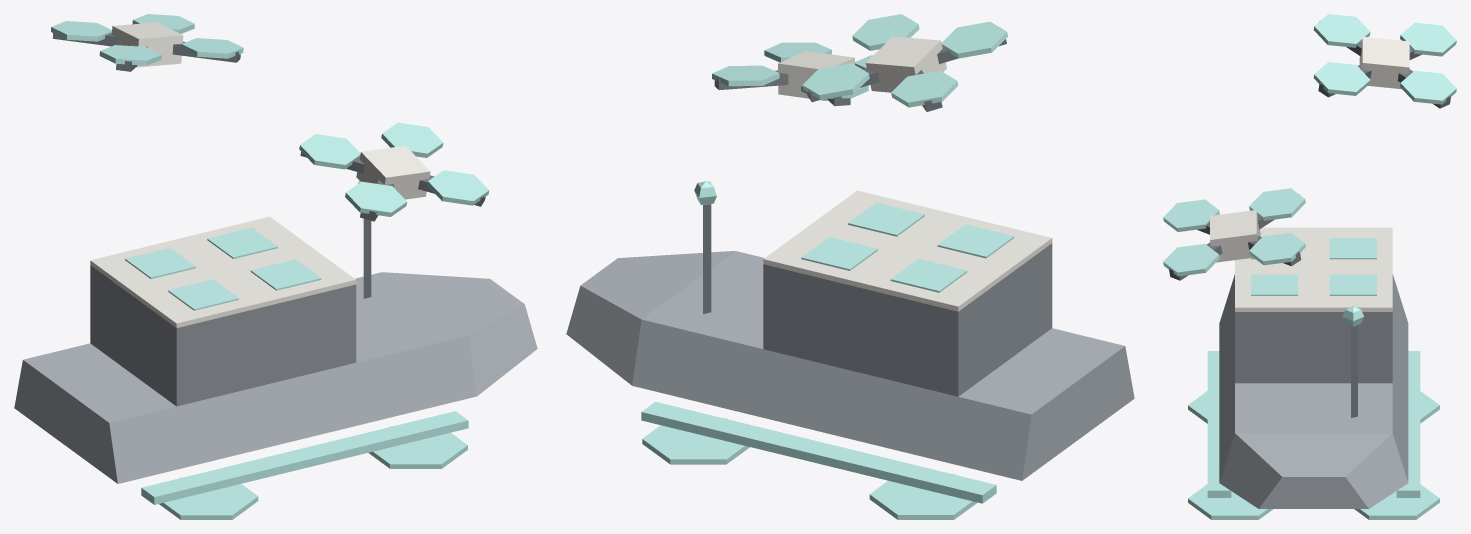
The model's file is formation_back.glb.
3 renders of one model, left to right at view 1: azimuth 30°, elevation 25°; view 2: azimuth 150°, elevation 25°; view 3: azimuth 270°, elevation 25°, orthographic. The views are drawn at different scales.
Parts seen in each view (by area): view 1: future_formation_back; view 2: future_formation_back; view 3: future_formation_back.
Part boxes in pixels (box(x1,y1,x2,y2)): future_formation_back: box(14, 14, 537, 519); future_formation_back: box(566, 14, 1134, 519); future_formation_back: box(1163, 14, 1456, 519).
Size of the model in its own units: 0.9995 by 0.8969 by 0.6315.
